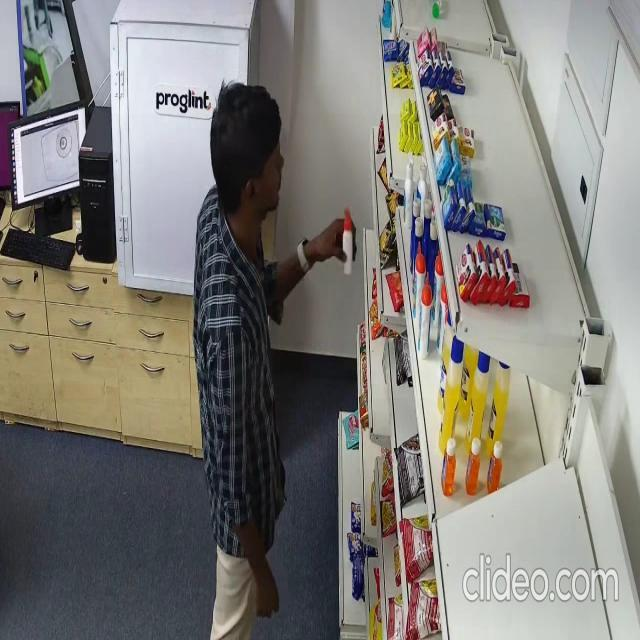normal: (192, 77, 359, 640)
